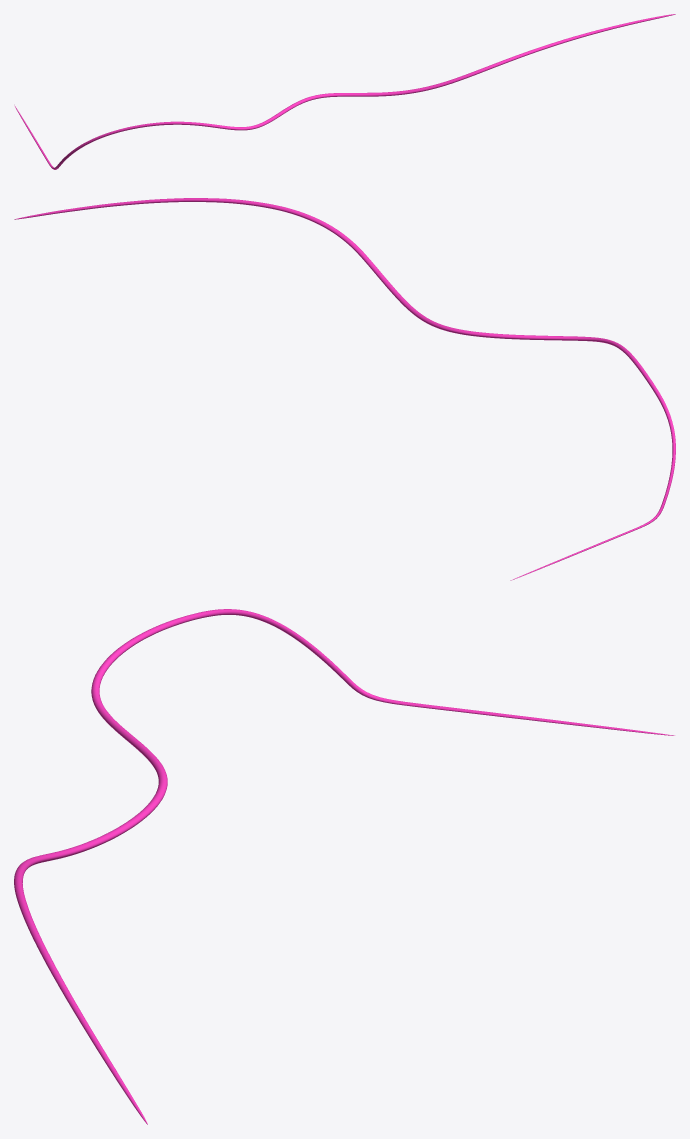
File: NeonEstacaoMeteorologica.glb
The picture shows the model from 3 angles, top to bottom: view 1: azimuth 30°, elevation 25°; view 2: azimuth 150°, elevation 25°; view 3: azimuth 270°, elevation 25°; orthographic projection. The views are drawn at different scales.
Visible parts, largest first — view 1: Neon.EM; view 2: Neon.EM; view 3: Neon.EM.
Part boxes in pixels (left/top/right/bottom): Neon.EM: left=14, top=14, right=675, bottom=169; Neon.EM: left=14, top=198, right=675, bottom=580; Neon.EM: left=14, top=609, right=674, bottom=1124.
Size of the model in its own units: 29.38 by 4.51 by 15.09.
